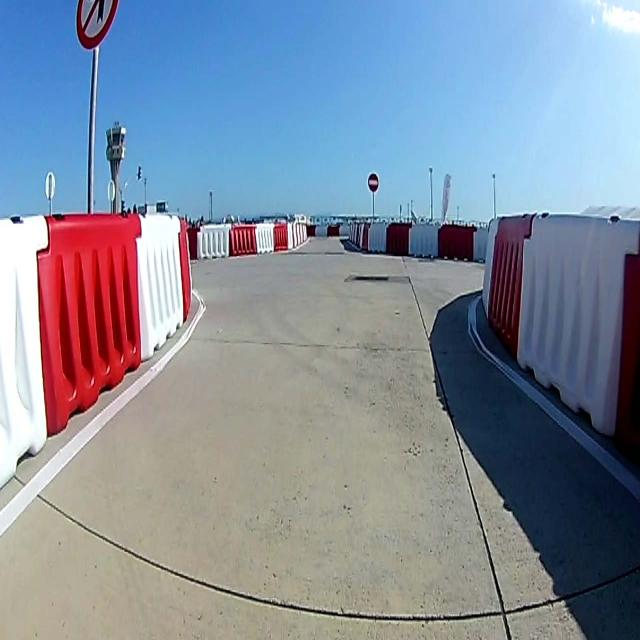girisyok: (368, 172, 378, 192)
soladonulmez: (75, 1, 119, 51)
